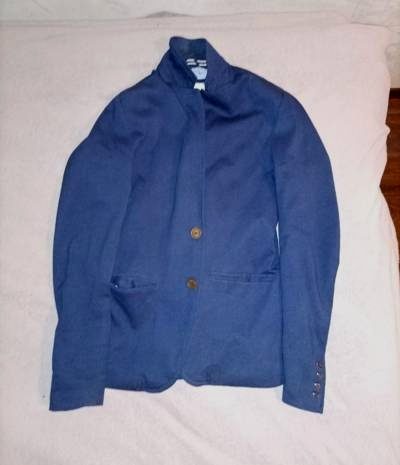Blazer: (36, 24, 349, 425)
